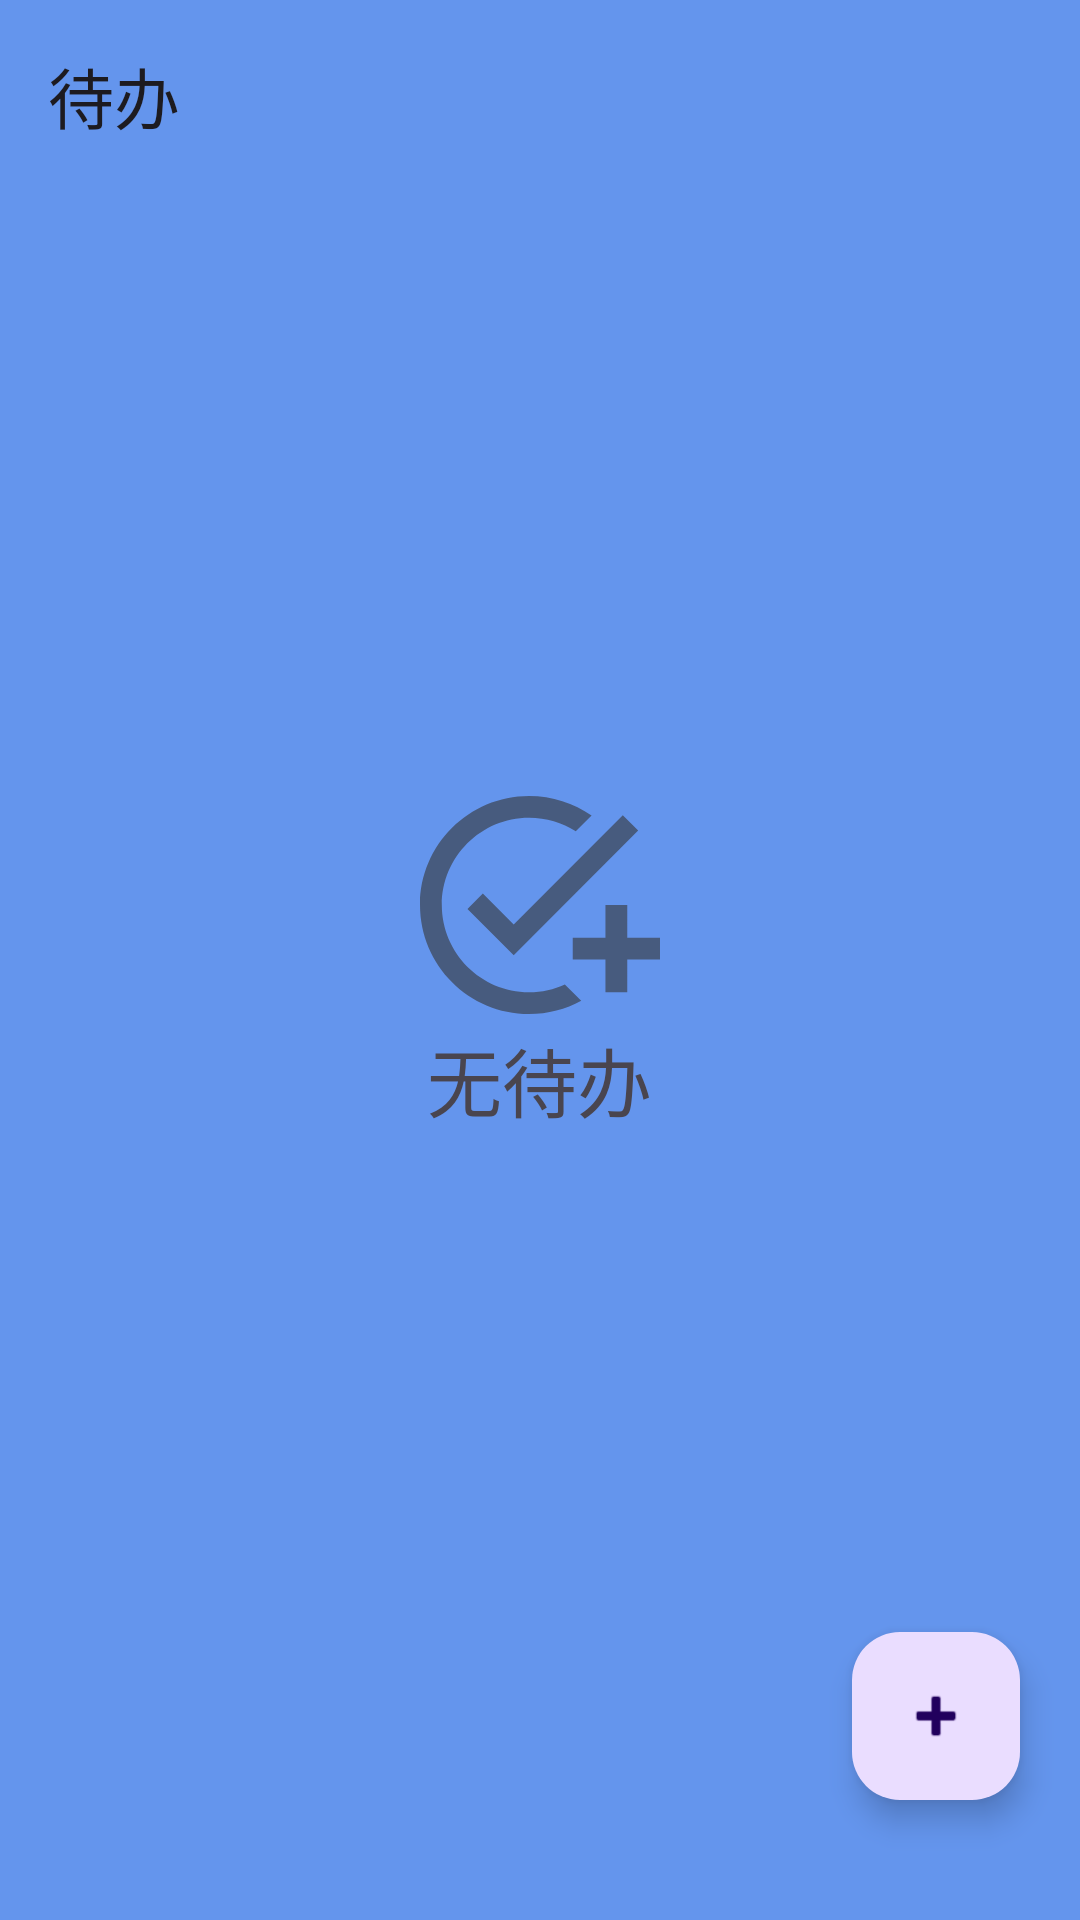

Where icons sit on this 1080px x 1920px app screen, as Rect(x1, y1, x2, y2):
add: Rect(852, 1632, 1020, 1800)
